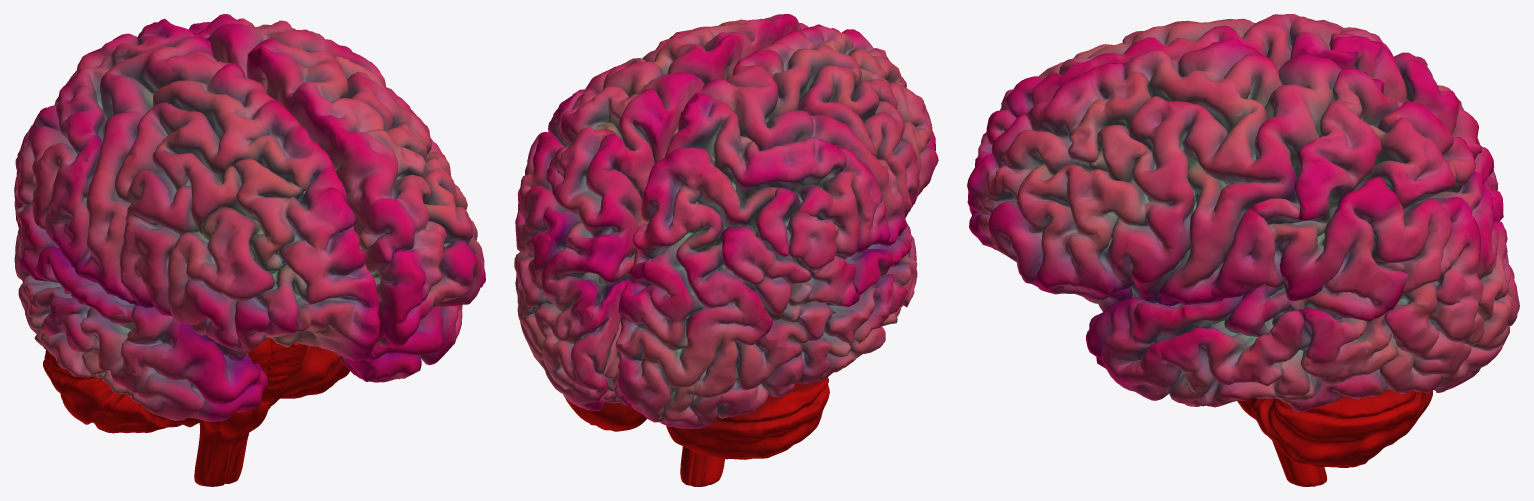
Rendered from mozgani.glb.
The picture shows the model from 3 angles, left to right: view 1: azimuth 30°, elevation 25°; view 2: azimuth 150°, elevation 25°; view 3: azimuth 270°, elevation 25°; orthographic projection. The views are drawn at different scales.
Visible parts, largest first — view 1: Frontal lobe (MRI).r, Frontal lobe (MRI).l, Temporal lobe (MRI).r, Parietal lobe (MRI).r, Cerebellum (MRI), Temporal lobe (MRI).l, Medulla oblongata.r, Pons.l, Medulla oblongata.l, Parietal lobe (MRI).l, Pons.r; view 2: Parietal lobe (MRI).r, Frontal lobe (MRI).r, Parietal lobe (MRI).l, Occipital lobe (MRI).r, Occipital lobe (MRI).l, Temporal lobe (MRI).r, Frontal lobe (MRI).l, Cerebellum (MRI), Medulla oblongata.r; view 3: Frontal lobe (MRI).l, Parietal lobe (MRI).l, Temporal lobe (MRI).l, Occipital lobe (MRI).l, Frontal lobe (MRI).r, Cerebellum (MRI), Parietal lobe (MRI).r, Medulla oblongata.l.
Boxes of the visible parts, box(x1,y1,x2,y2) form: Frontal lobe (MRI).r: box(75, 34, 379, 360); Frontal lobe (MRI).l: box(191, 23, 485, 347); Temporal lobe (MRI).r: box(14, 223, 268, 421); Parietal lobe (MRI).r: box(14, 19, 194, 268); Cerebellum (MRI): box(43, 346, 349, 433); Temporal lobe (MRI).l: box(339, 305, 462, 382); Medulla oblongata.r: box(194, 409, 253, 486); Pons.l: box(262, 337, 307, 402); Medulla oblongata.l: box(224, 398, 274, 483); Parietal lobe (MRI).l: box(188, 14, 355, 53); Pons.r: box(248, 337, 271, 375); Parietal lobe (MRI).r: box(616, 93, 892, 348); Frontal lobe (MRI).r: box(684, 24, 938, 245); Parietal lobe (MRI).l: box(514, 86, 666, 337); Occipital lobe (MRI).r: box(615, 256, 796, 429); Occipital lobe (MRI).l: box(515, 236, 631, 411); Temporal lobe (MRI).r: box(765, 220, 917, 384); Frontal lobe (MRI).l: box(585, 14, 809, 164); Cerebellum (MRI): box(565, 377, 829, 459); Medulla oblongata.r: box(691, 452, 724, 486); Frontal lobe (MRI).l: box(967, 37, 1384, 311); Parietal lobe (MRI).l: box(1210, 68, 1509, 346); Temporal lobe (MRI).l: box(1086, 284, 1397, 412); Occipital lobe (MRI).l: box(1379, 184, 1519, 393); Frontal lobe (MRI).r: box(970, 14, 1362, 213); Cerebellum (MRI): box(1250, 389, 1432, 467); Parietal lobe (MRI).r: box(1317, 20, 1503, 221); Medulla oblongata.l: box(1237, 398, 1327, 486).
Size of the model in its own units: 0.1377 by 0.1609 by 0.1808.
1 material, 1 textured.
